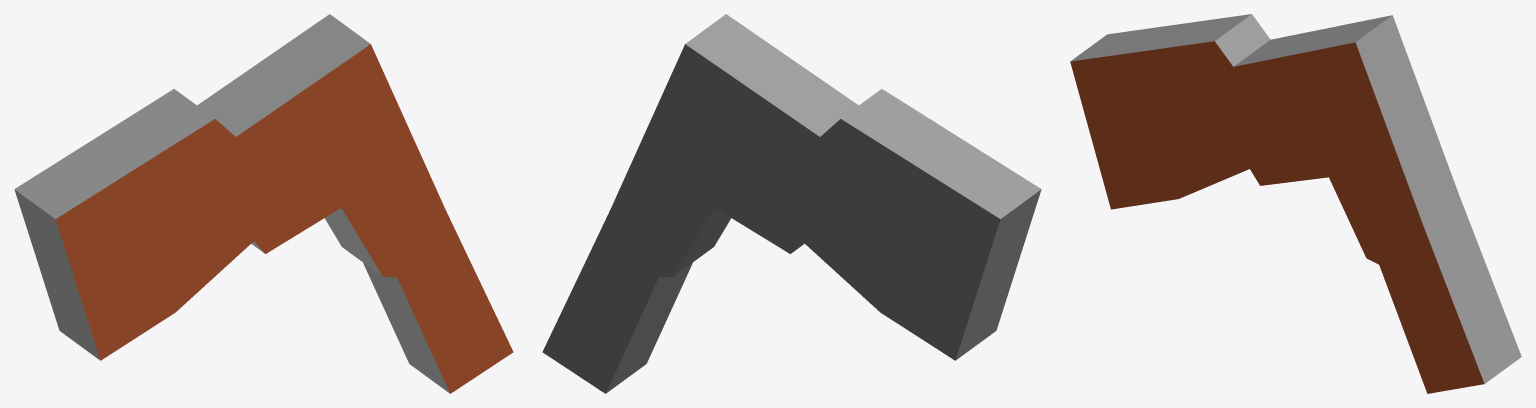
File: construction_1944_assumed_A_Casa_h6m.obj
3 renders of one model, left to right at view 1: azimuth 30°, elevation 25°; view 2: azimuth 150°, elevation 25°; view 3: azimuth 330°, elevation 25°, orthographic. The views are drawn at different scales.
Visible parts, largest first — view 1: construction_1944_assumed_A_Casa; view 2: construction_1944_assumed_A_Casa; view 3: construction_1944_assumed_A_Casa.
Part boxes in pixels (x1,y1,x2,y2): construction_1944_assumed_A_Casa: [14, 14, 513, 393]; construction_1944_assumed_A_Casa: [542, 14, 1041, 393]; construction_1944_assumed_A_Casa: [1070, 14, 1521, 393].
Bounding box in the file's own units: 38.63 × 29.75 × 6.
